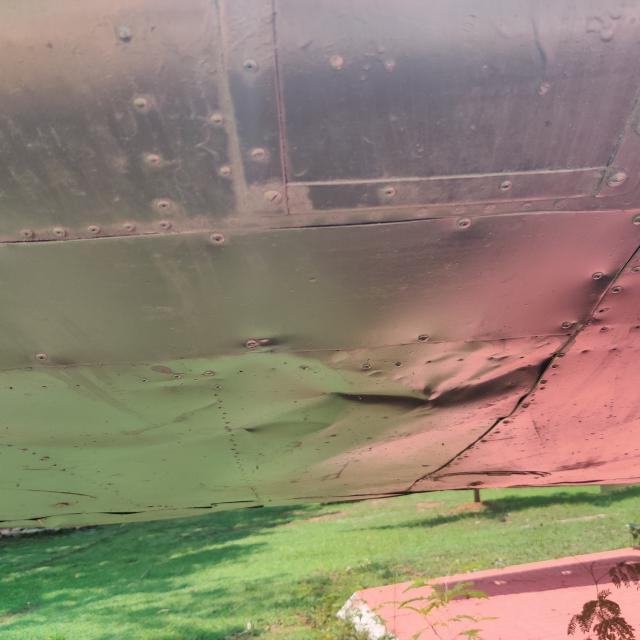Dent: (296, 324, 568, 431)
